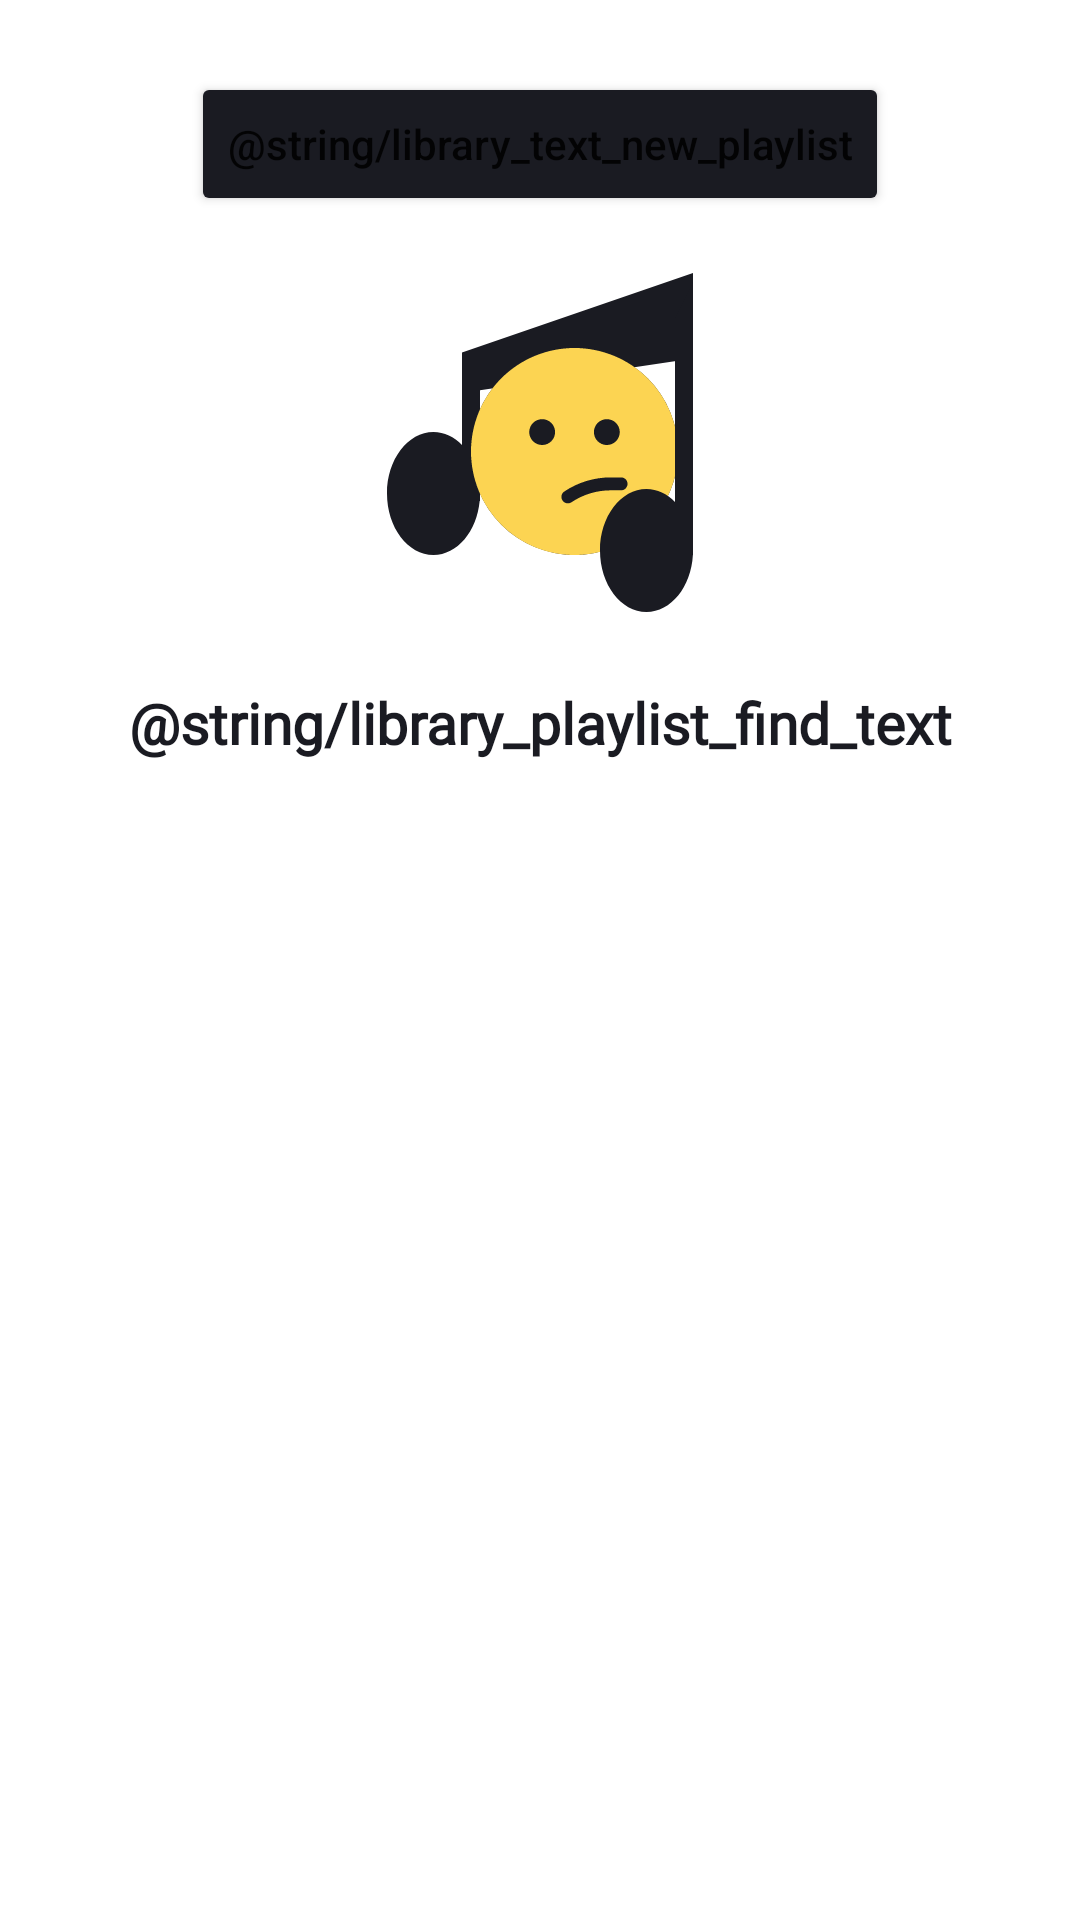

Icon bounding boxes for this 1080px x 1920px phone screenshot, format [left=x1, top=y1, right=x2, bottom=y2]:
Ничего не нашлось: [left=387, top=273, right=693, bottom=612]
